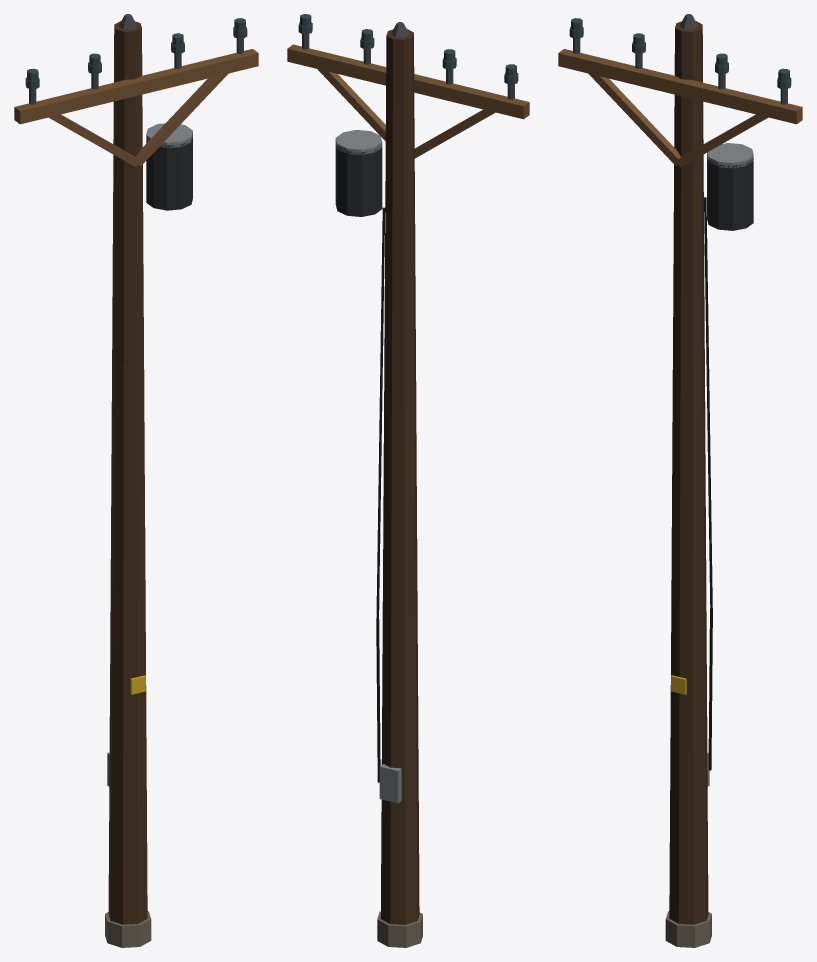
Rendered from power_pole.fbx.
3 views of the same model, side by side, from view 1: azimuth 30°, elevation 25°; view 2: azimuth 150°, elevation 25°; view 3: azimuth 330°, elevation 25° (orthographic).
Visible parts, largest first — view 1: power_pole; view 2: power_pole; view 3: power_pole.
Boxes of the visible parts, x1,y1,x2,y2 form: power_pole: (14,14,258,947); power_pole: (287,14,529,947); power_pole: (558,14,802,947).
Size of the model in its own units: 2.3 by 8.5 by 0.4.
